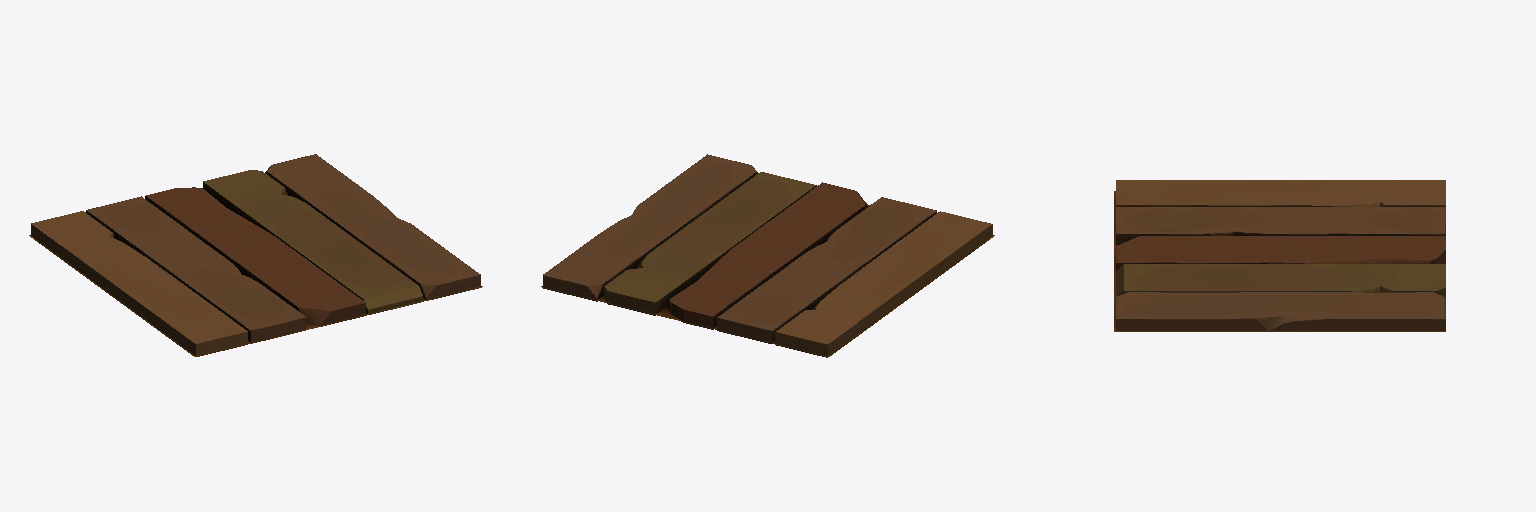
3 views of the same model, side by side, from view 1: azimuth 30°, elevation 25°; view 2: azimuth 150°, elevation 25°; view 3: azimuth 270°, elevation 25° (orthographic).
Visible parts, largest first — view 1: OBJ_WoodRoad_01; view 2: OBJ_WoodRoad_01; view 3: OBJ_WoodRoad_01.
Part boxes in pixels (x1,y1,x2,y2): OBJ_WoodRoad_01: (29, 154, 482, 356); OBJ_WoodRoad_01: (541, 154, 994, 357); OBJ_WoodRoad_01: (1114, 180, 1445, 331).
Bounding box in the file's own units: 2.4 × 0.1059 × 2.4.
Materials: 1 (1 with a texture image).